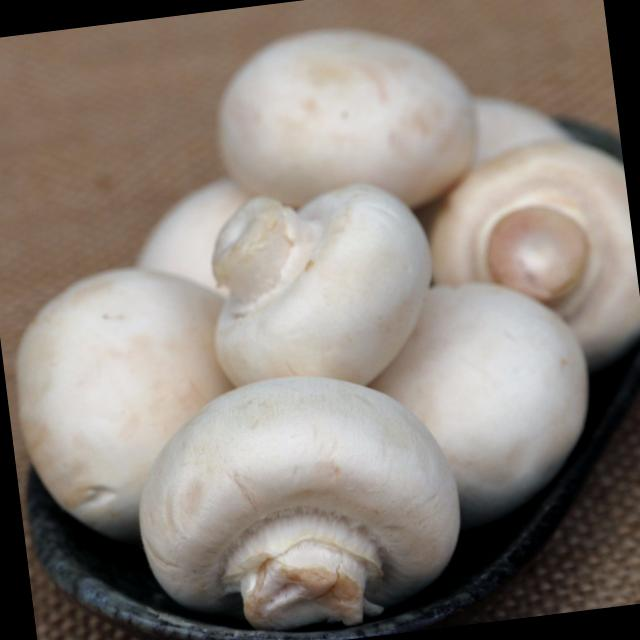Agaricus bisporus: (127, 358, 470, 639), (0, 251, 246, 533), (210, 18, 502, 220), (206, 173, 443, 396), (388, 264, 600, 511), (426, 134, 640, 367)
